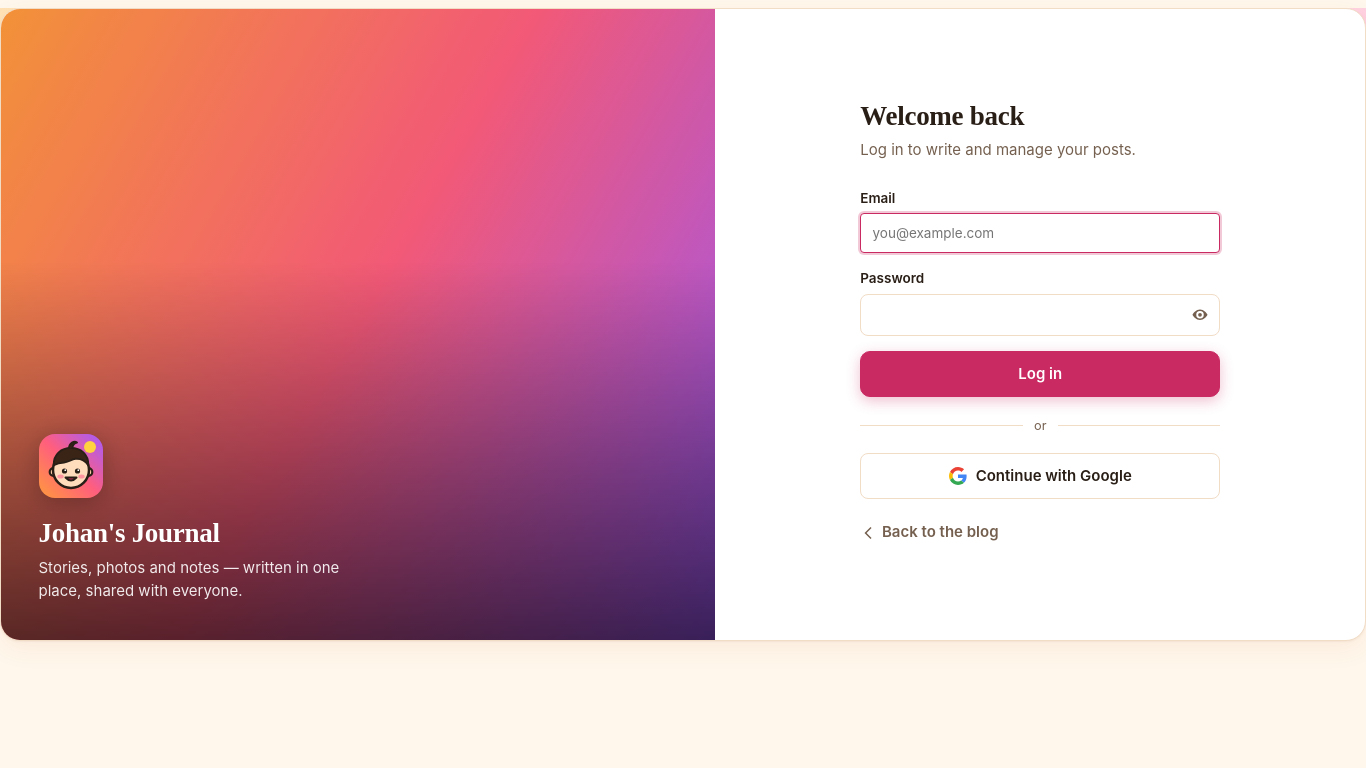
Test: LoginPage › explains wrong credentials
Type "a@b.c" into the field labelled "Email".
click(1040, 233); type("a@b.c")  # box [860,213,1220,253]
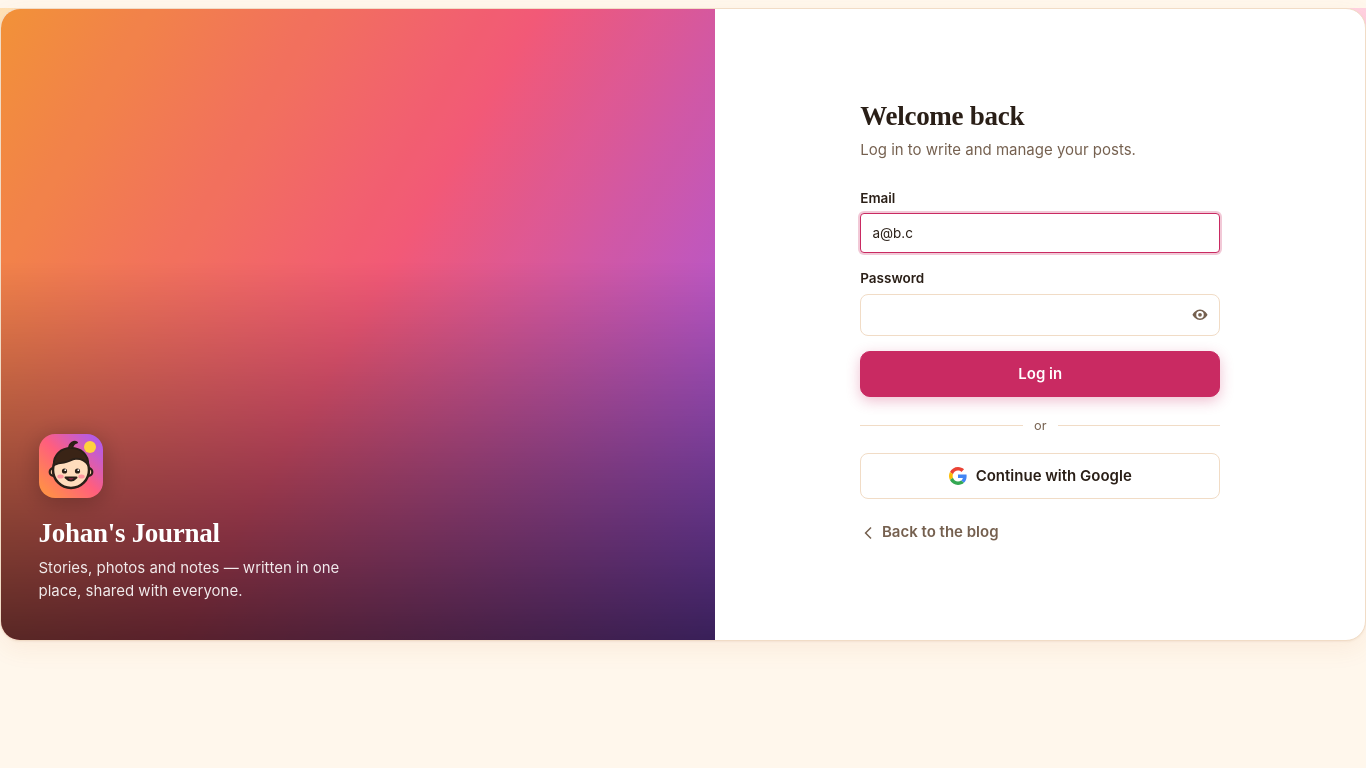
Type "wrong" into the password field labelled "Password".
click(1040, 315); type("wrong")  # box [860,294,1220,336]
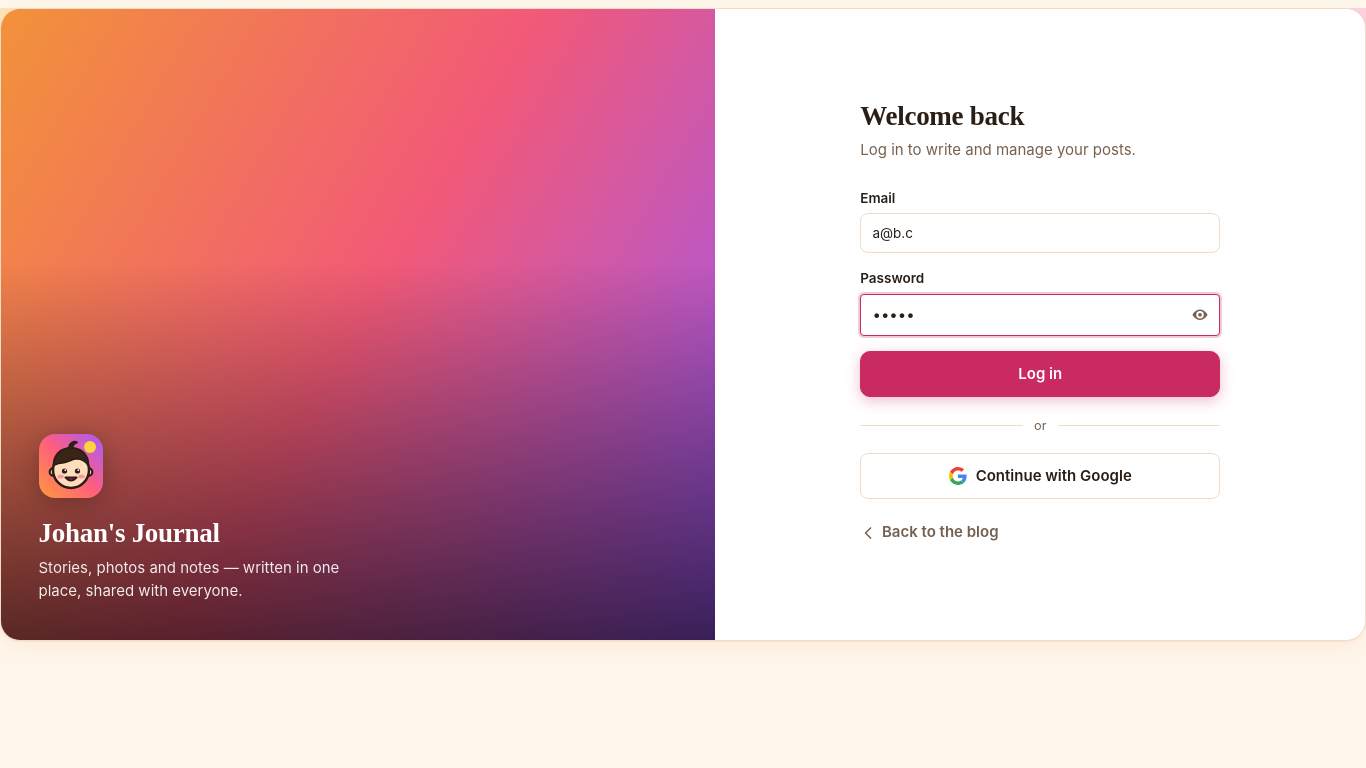
Click the button "Log in".
click(1040, 374)  # box [860,351,1220,397]
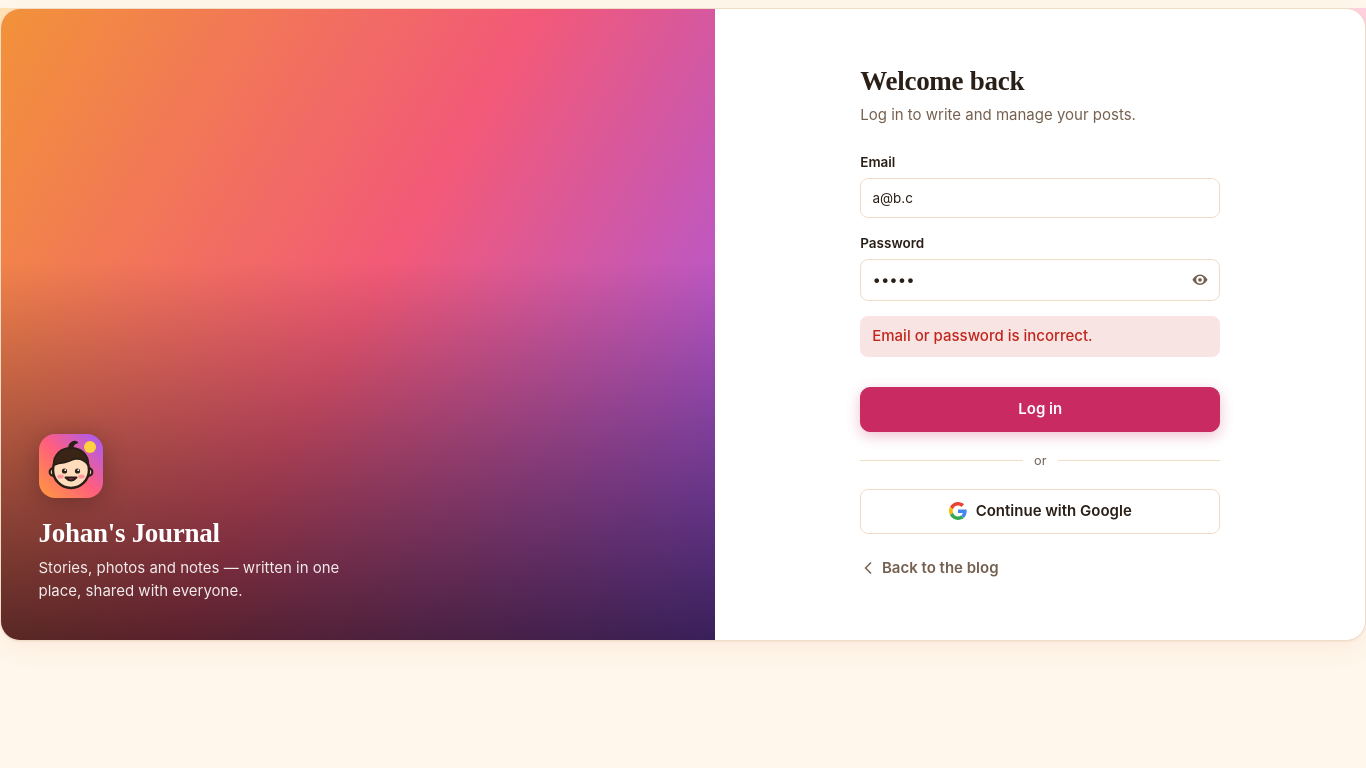
Expected: the message reads "Email or password is incorrect.", [872,326,1093,345]
